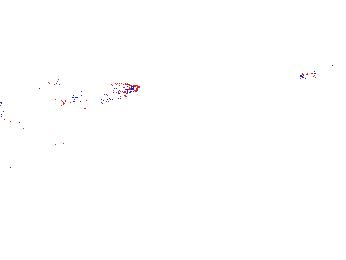glassfish: (1, 109, 77, 166)
red belly glassfish: (309, 51, 340, 62), (298, 68, 326, 80)
redtail glassfish: (55, 82, 138, 106), (2, 75, 66, 101)
